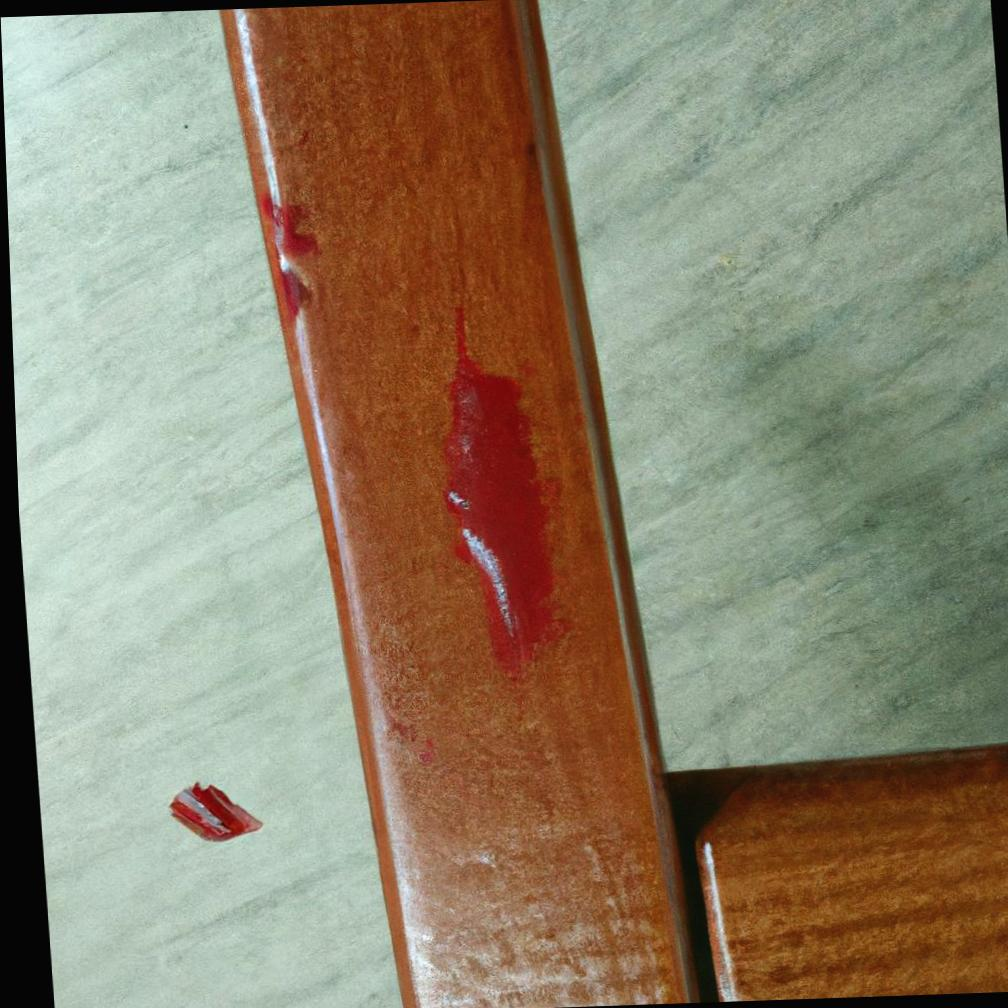Fire: (438, 307, 569, 684), (259, 194, 319, 258), (276, 269, 308, 323)
